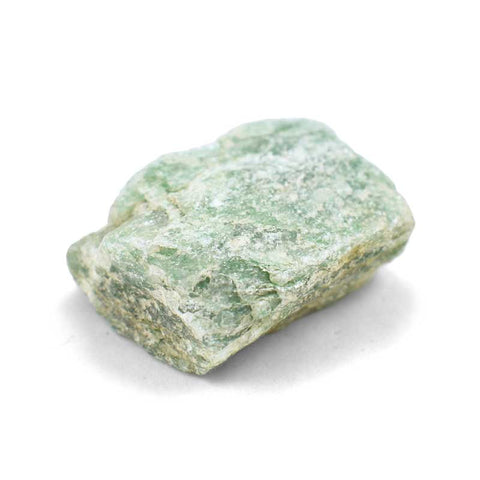Aventurine: (64, 116, 418, 378)
